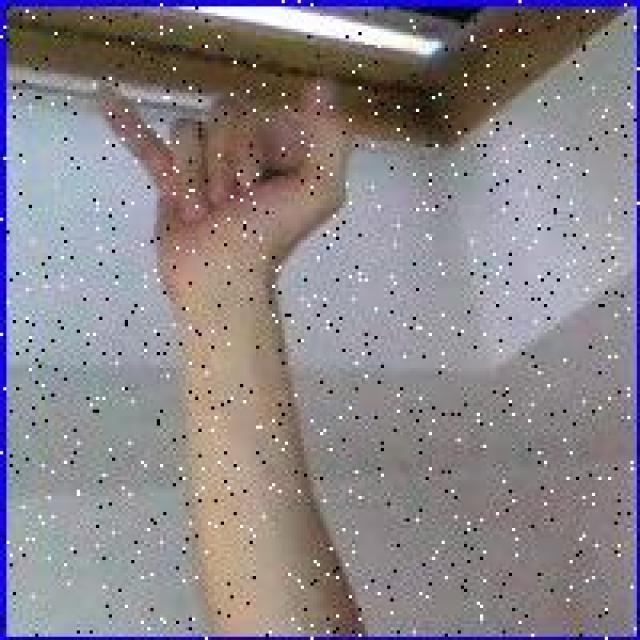Y: (96, 81, 349, 302)
